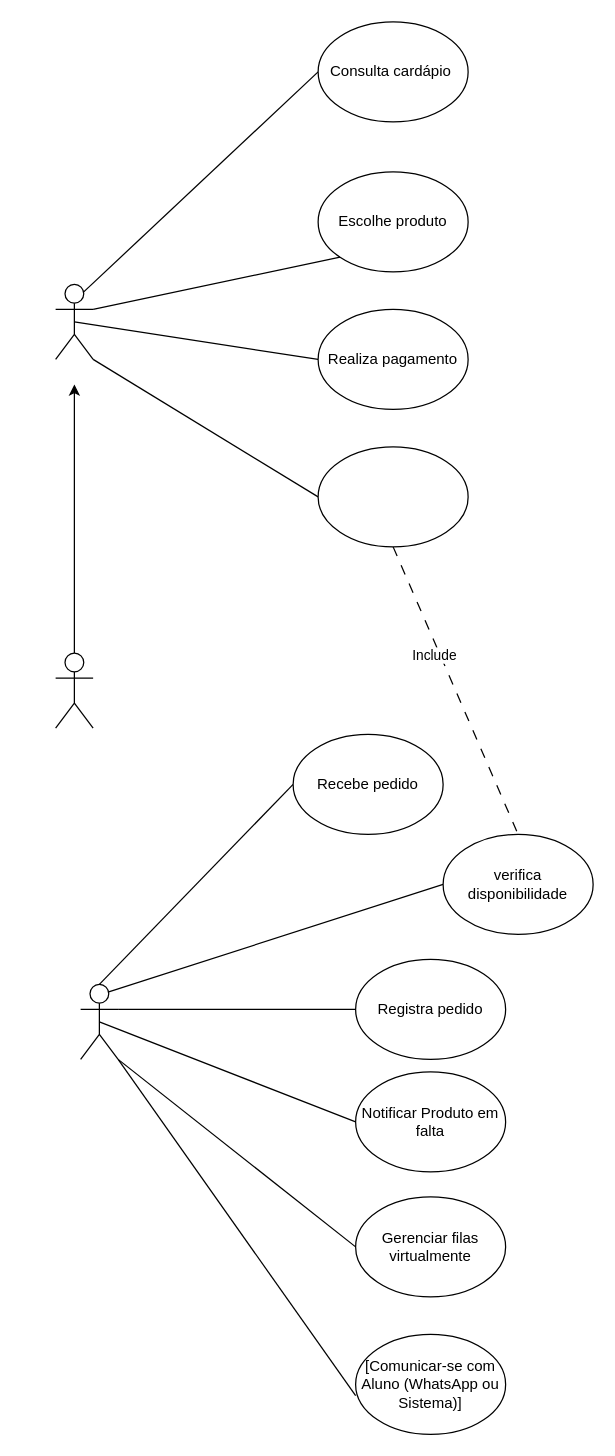
This 615x1456 diagram has some shape labels left out. Here are the shapes that lost their labels. From the top down, the centre of each, then its label:
(x=73, y=321): Cliente
(x=392, y=496): Realizar pedido online
(x=73, y=690): Servidores
(x=98, y=1021): Funcionário da Cantina
